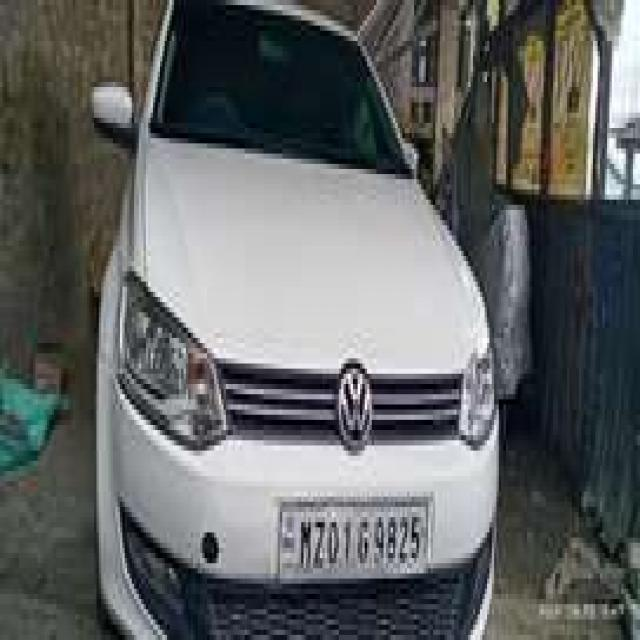Plate: (279, 498, 425, 569)
